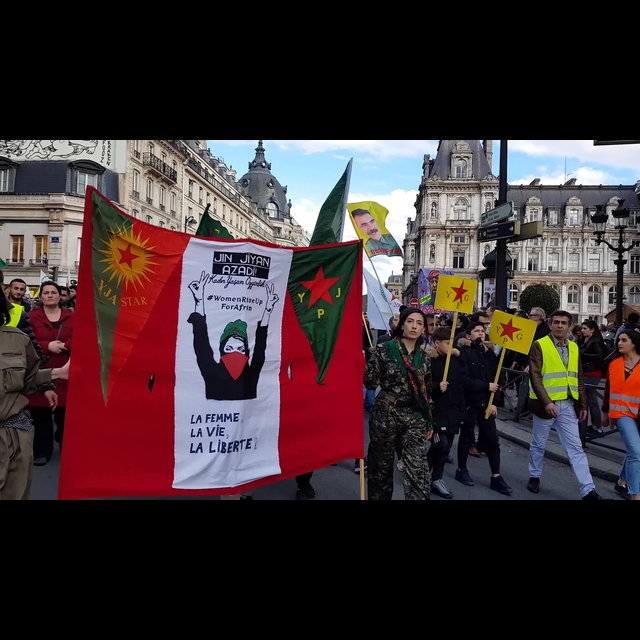APO: (349, 206, 387, 242)
